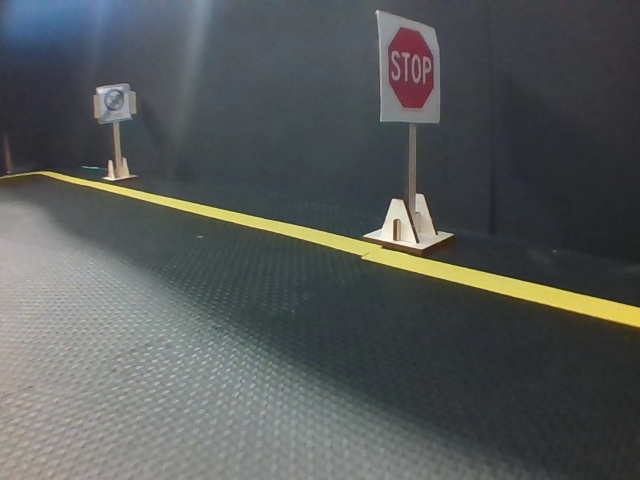no30: (96, 85, 131, 119)
stop: (379, 14, 439, 124)
